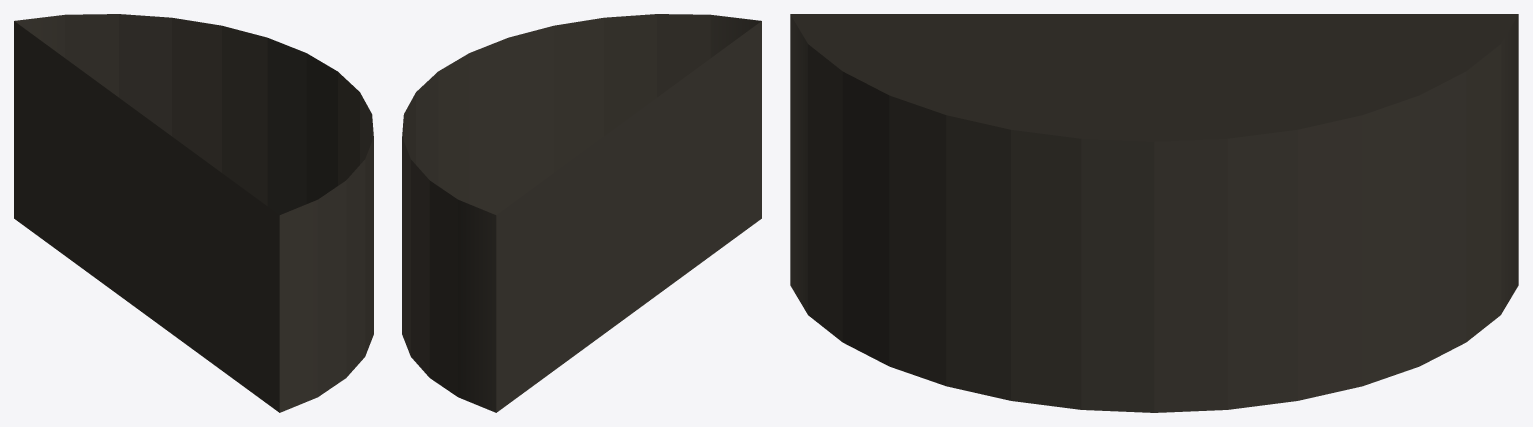
Rendered from TurnTableCollider.fbx.
3 renders of one model, left to right at view 1: azimuth 30°, elevation 25°; view 2: azimuth 150°, elevation 25°; view 3: azimuth 270°, elevation 25°, orthographic. The views are drawn at different scales.
Visible parts, largest first — view 1: Cylinder.001; view 2: Cylinder.001; view 3: Cylinder.001.
Part boxes in pixels (box(x1,y1,x2,y2)): Cylinder.001: box(14, 14, 373, 412); Cylinder.001: box(402, 14, 761, 412); Cylinder.001: box(790, 14, 1518, 412).
Bounding box in the file's own units: 842 × 833 × 2027.
1 material, 1 textured.
